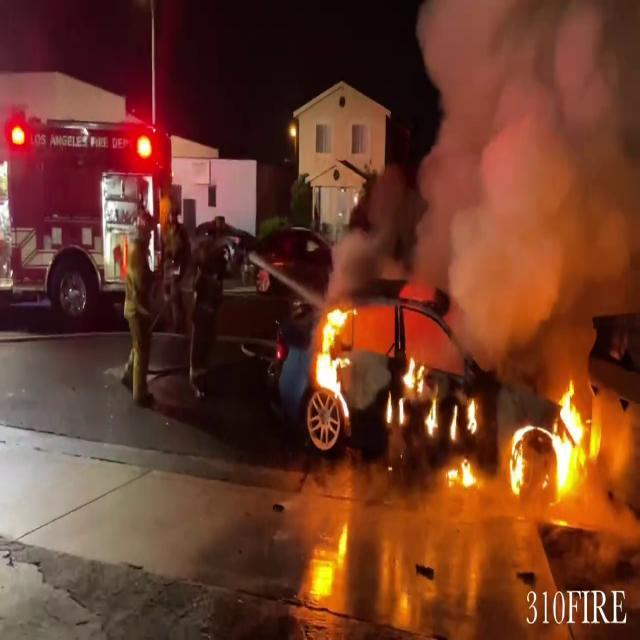Fire: (544, 377, 596, 502), (309, 299, 357, 416), (384, 344, 438, 440), (506, 426, 528, 497), (444, 453, 480, 491)
Smoke: (403, 0, 640, 339)
